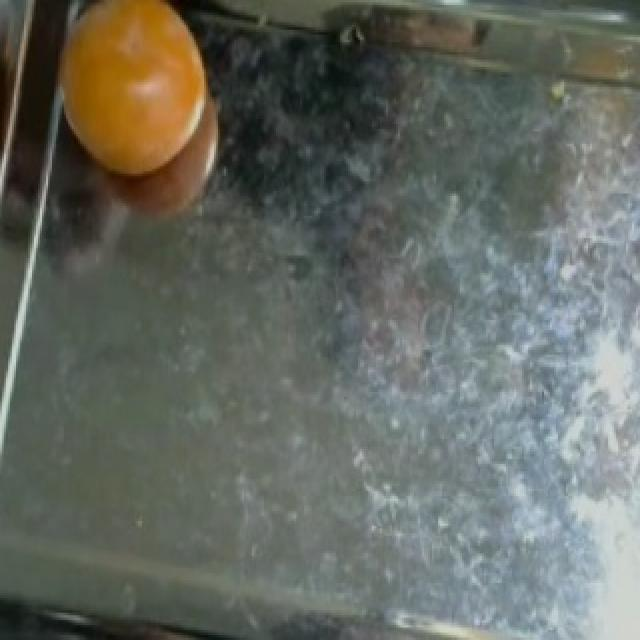Fruit: (38, 0, 242, 201)
